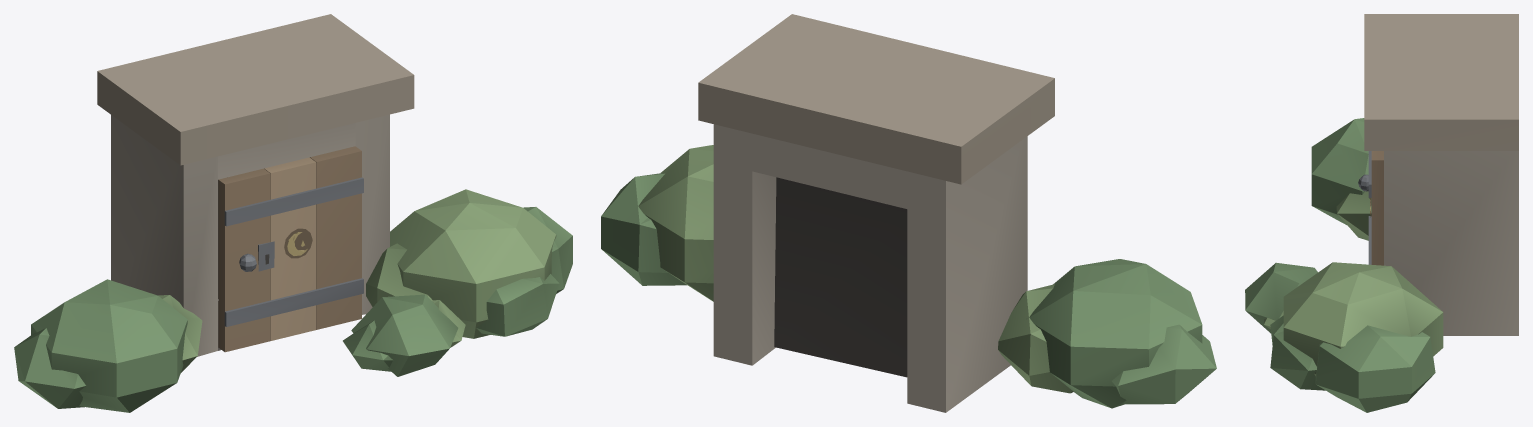
The model's file is story_lighthouse_hatch_low.glb.
The picture shows the model from 3 angles, left to right: view 1: azimuth 30°, elevation 25°; view 2: azimuth 150°, elevation 25°; view 3: azimuth 270°, elevation 25°; orthographic projection. The views are drawn at different scales.
Visible parts, largest first — view 1: story.lighthouse_hatch, door; view 2: story.lighthouse_hatch; view 3: story.lighthouse_hatch, door.
Part boxes in pixels (box(x1,y1,x2,y2)): story.lighthouse_hatch: box(14, 14, 572, 412); door: box(218, 146, 363, 352); story.lighthouse_hatch: box(601, 14, 1216, 412); story.lighthouse_hatch: box(1245, 14, 1518, 412); door: box(1358, 151, 1383, 265).
Bounding box in the file's own units: 2.35 × 1.1 × 1.12.
